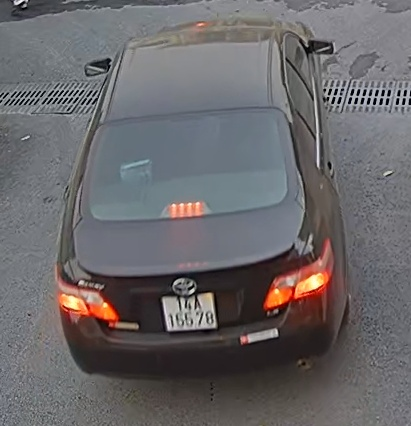vehicle plate: (162, 287, 222, 332)
